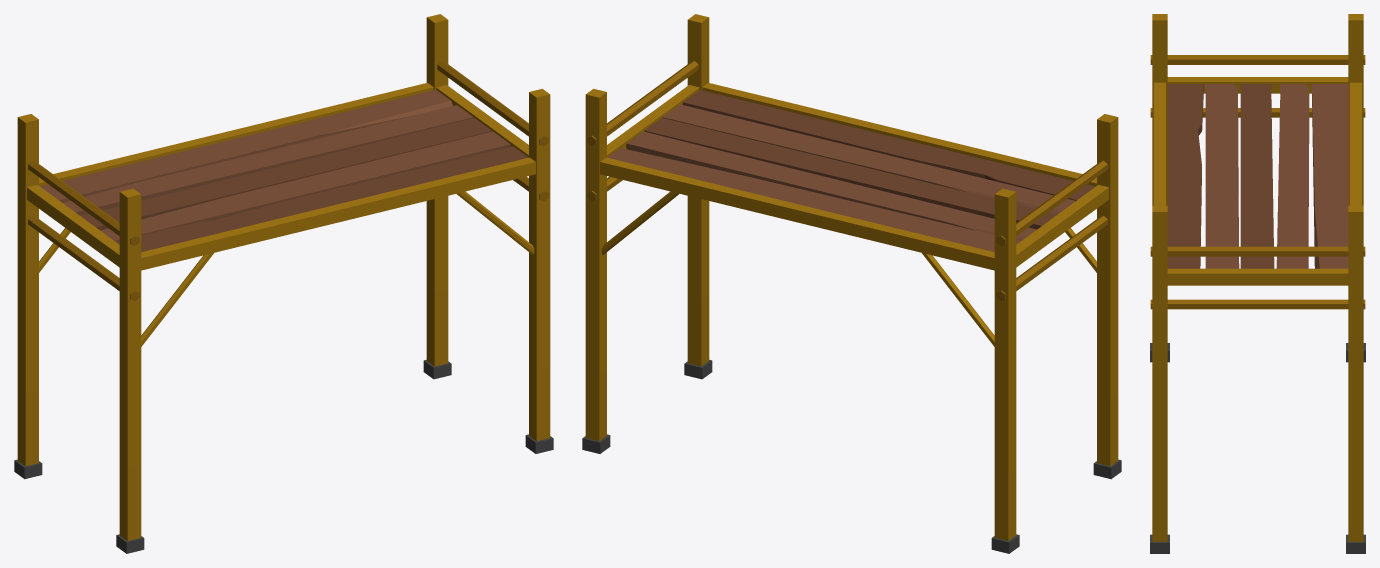
File: SM_Props_Scaffolding_03.glb
The picture shows the model from 3 angles, left to right: view 1: azimuth 30°, elevation 25°; view 2: azimuth 150°, elevation 25°; view 3: azimuth 270°, elevation 25°; orthographic projection. The views are drawn at different scales.
Parts seen in each view (by area): view 1: SM_Props_Scaffolding_03; view 2: SM_Props_Scaffolding_03; view 3: SM_Props_Scaffolding_03.
Part boxes in pixels (x1=…): SM_Props_Scaffolding_03: x1=14, y1=14, x2=553, y2=553; SM_Props_Scaffolding_03: x1=582, y1=14, x2=1121, y2=553; SM_Props_Scaffolding_03: x1=1150, y1=14, x2=1365, y2=553.
Size of the model in its own units: 3.15 by 2.5 by 1.43.
1 material, 1 textured.
